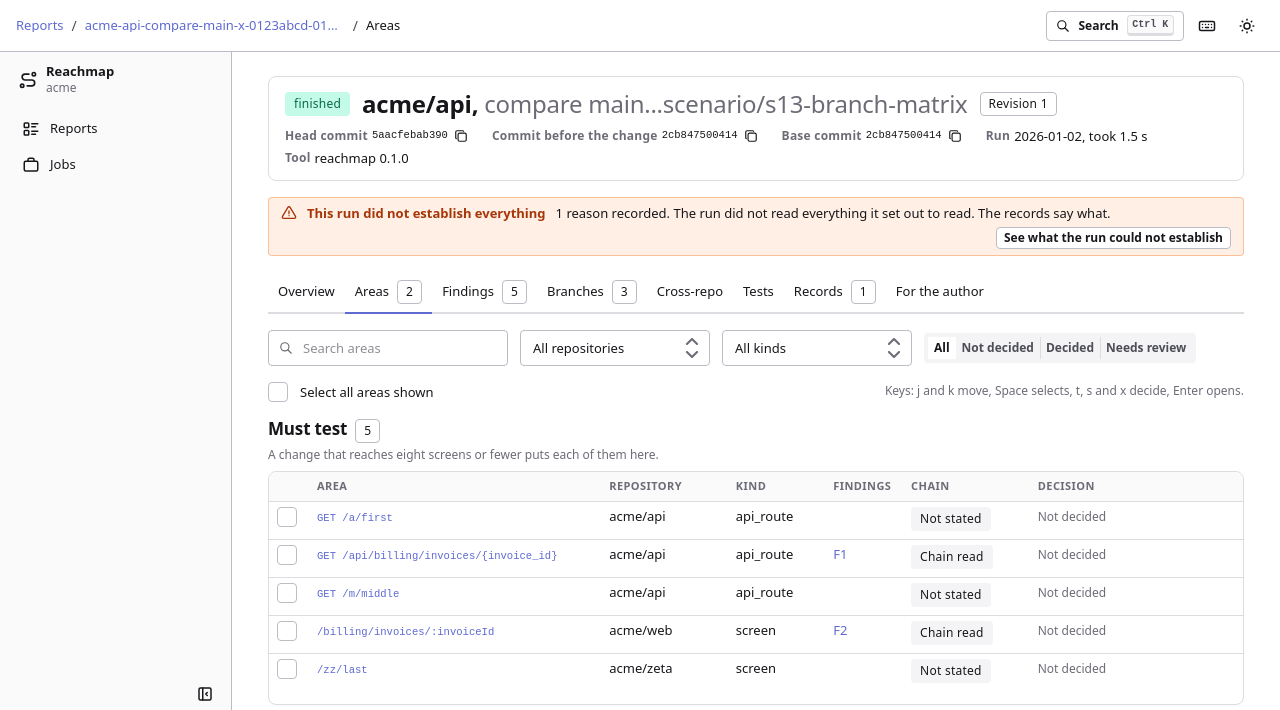
the areas › filters by repository, kind, decision state and text, and says when nothing matches
Check: the heading "acme/api, compare main...scenario/s13-branch-matrix" is shown, box [362, 89, 968, 119]
Select "acme/zeta" in the dropdown named "Repository": (615, 348) [520, 330, 710, 366]
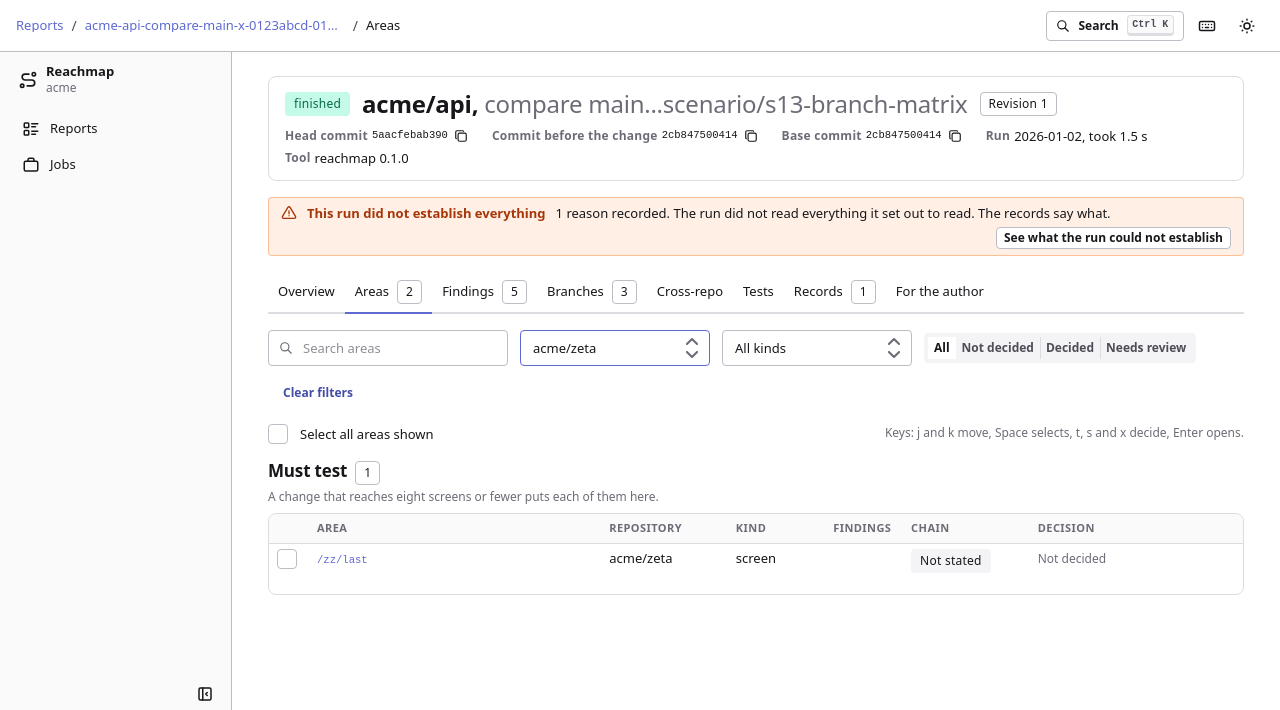
Click the button "Clear filters": (318, 393) [268, 378, 368, 408]
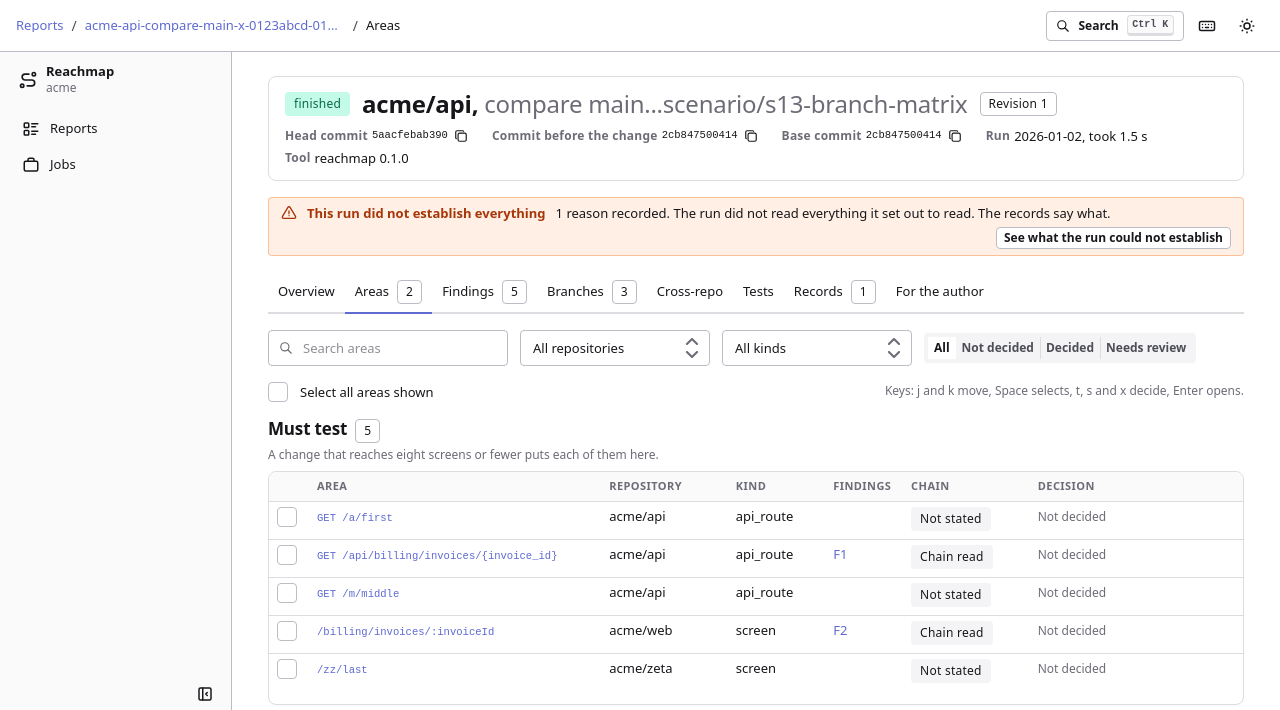
In the field labelled "Search areas": (388, 348) [268, 330, 508, 366], type "sample-a"
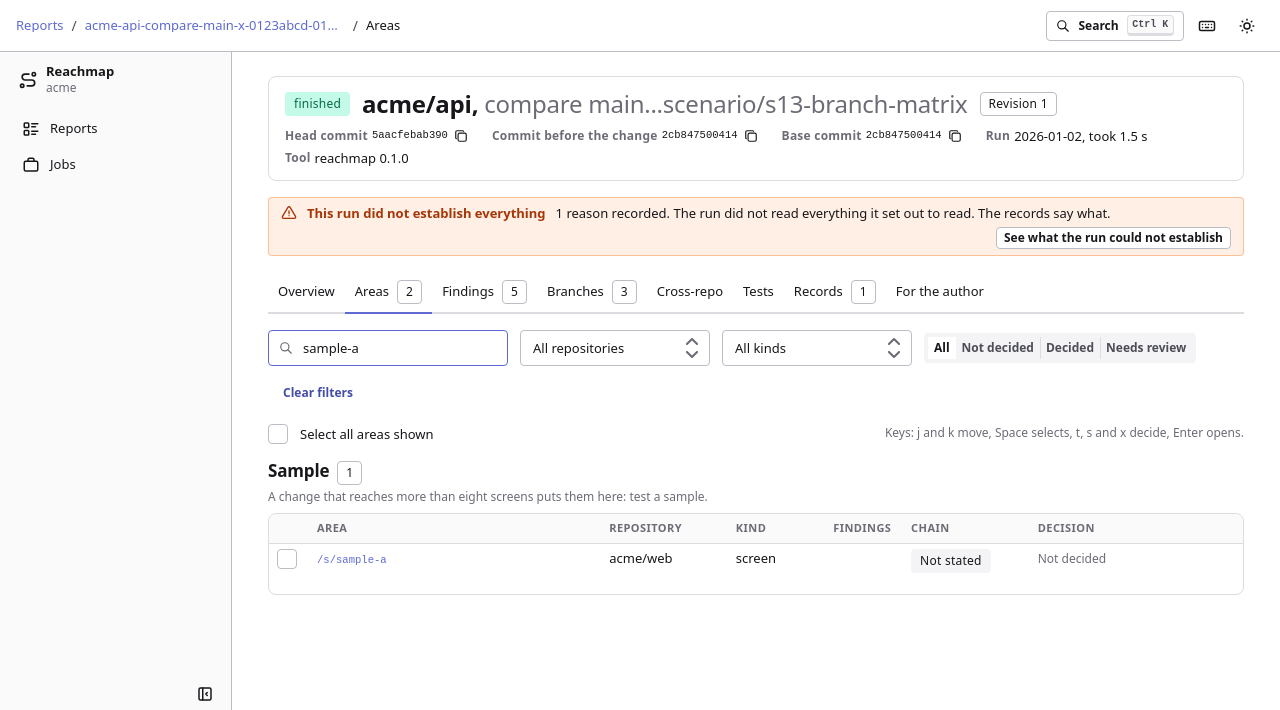
Clear the field named "Search areas": (388, 348) [268, 330, 508, 366]
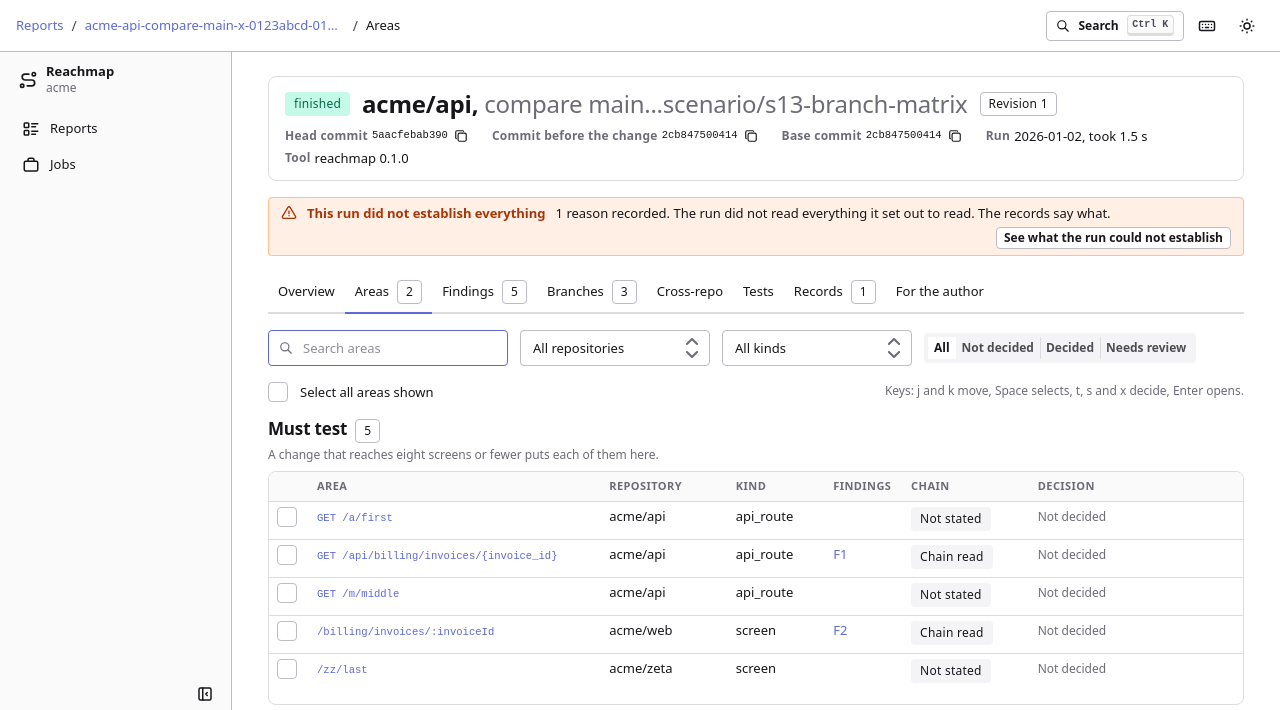
Select "screen" in the dropdown named "Kind": (817, 348) [722, 330, 912, 366]
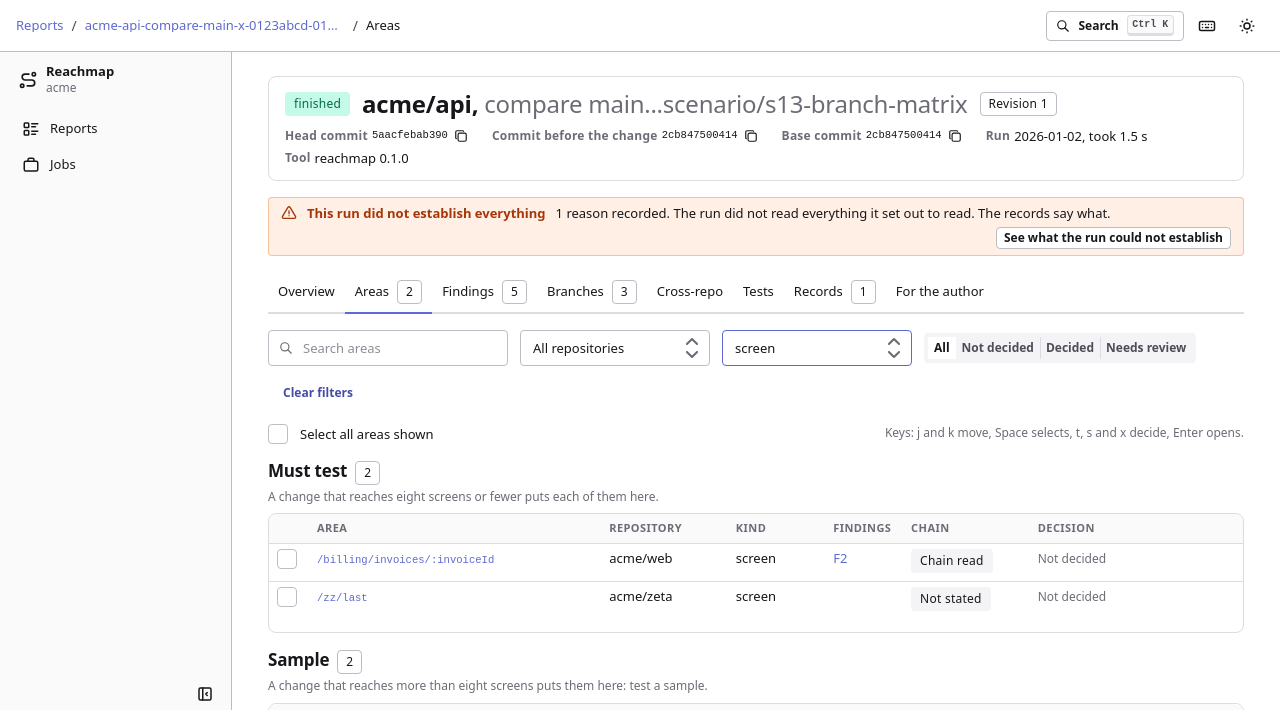
In the field labelled "Search areas": (388, 348) [268, 330, 508, 366], type "no area is called this"
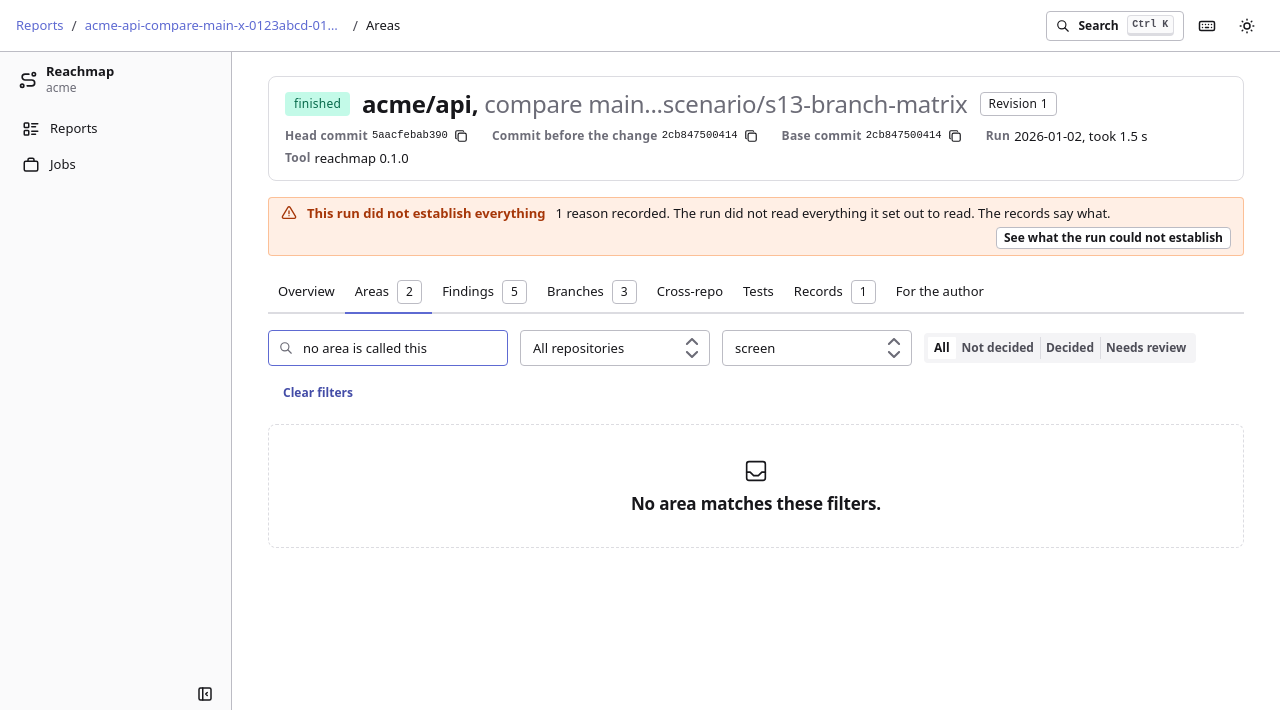
Check: the heading "No area matches these filters." is shown, box [631, 493, 881, 515]
